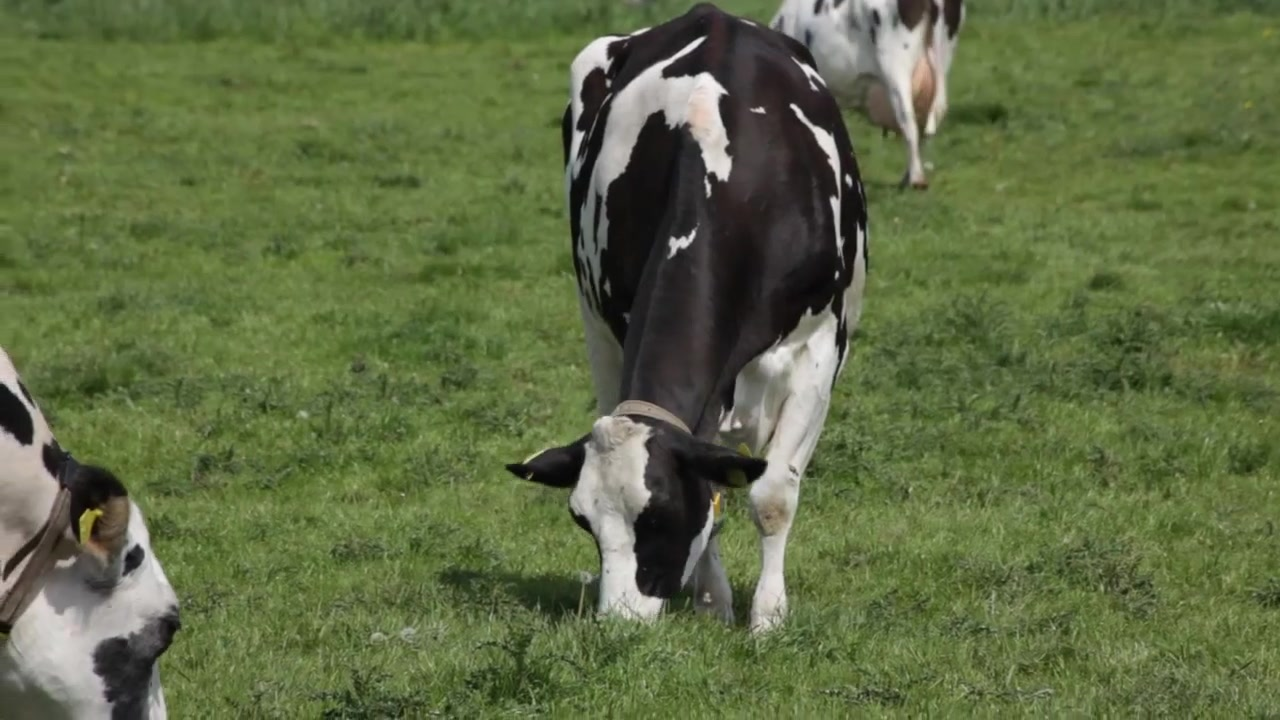cow: (498, 5, 874, 658)
